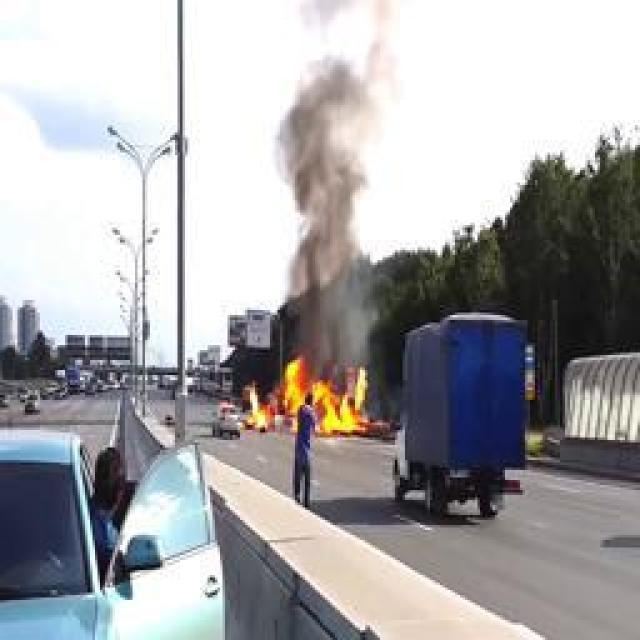Fire: (246, 361, 392, 434)
